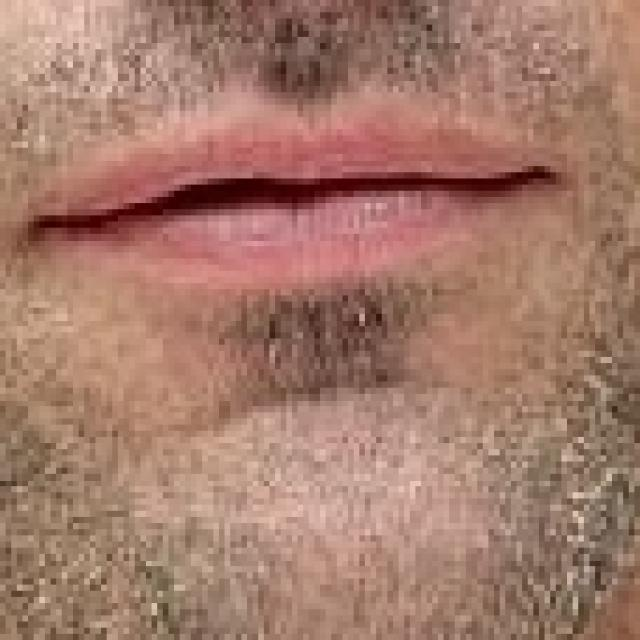closed-mouth: (22, 104, 567, 290)
